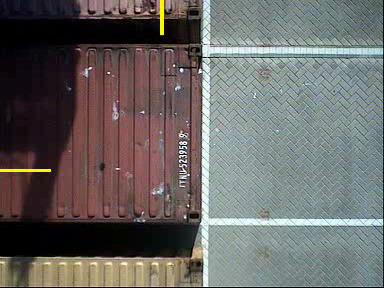groundmarker_2: (200, 32, 229, 72), (199, 202, 228, 242)
